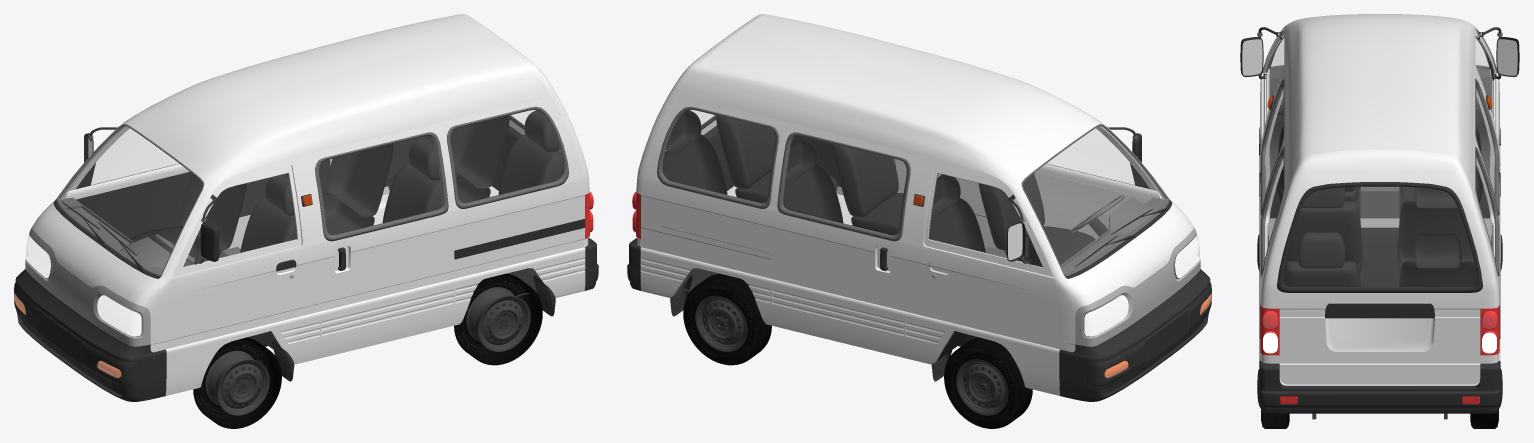
The model's file is chevrolet_damas.glb.
The picture shows the model from 3 angles, left to right: view 1: azimuth 30°, elevation 25°; view 2: azimuth 150°, elevation 25°; view 3: azimuth 270°, elevation 25°; orthographic projection. The views are drawn at different scales.
Visible parts, largest first — view 1: Object_13, Object_12, Object_17, Object_15, Object_19, Object_14, Object_11, Object_22, Object_27, Object_21, Object_25, Object_18 (+2 smaller); view 2: Object_13, Object_12, Object_17, Object_15, Object_19, Object_11, Object_22, Object_21, Object_18, Object_25, Object_23, Object_27 (+2 smaller); view 3: Object_13, Object_12, Object_17, Object_15, Object_19, Object_22, Object_14, Object_18, Object_2, Object_3, Object_23, Object_11 (+2 smaller).
Part boxes in pixels (x1,y1,x2,y2): Object_13: (32, 14, 588, 364); Object_12: (63, 14, 589, 395); Object_17: (26, 110, 562, 335); Object_15: (130, 110, 563, 264); Object_19: (14, 115, 598, 401); Object_14: (76, 125, 562, 238); Object_11: (193, 273, 542, 428); Object_22: (29, 106, 568, 336); Object_27: (205, 197, 530, 415); Object_21: (25, 228, 293, 346); Object_25: (221, 300, 523, 408); Object_18: (60, 197, 240, 273); Object_13: (637, 14, 1193, 364); Object_12: (636, 14, 1162, 395); Object_17: (663, 110, 1199, 335); Object_15: (662, 110, 1095, 264); Object_19: (627, 115, 1211, 401); Object_11: (683, 273, 1032, 428); Object_22: (657, 106, 1196, 336); Object_21: (932, 228, 1200, 346); Object_18: (985, 195, 1165, 273); Object_25: (702, 300, 1004, 408); Object_23: (1084, 237, 1210, 377); Object_27: (695, 197, 1012, 415); Object_13: (1259, 14, 1500, 385); Object_12: (1259, 29, 1500, 384); Object_17: (1264, 38, 1495, 286); Object_15: (1277, 126, 1482, 286); Object_19: (1240, 37, 1519, 413); Object_22: (1257, 32, 1502, 276); Object_14: (1265, 166, 1494, 286); Object_18: (1269, 67, 1490, 217); Object_2: (1242, 39, 1517, 75); Object_3: (1260, 305, 1499, 403); Object_23: (1263, 312, 1496, 353); Object_11: (1261, 409, 1498, 428).
Size of what is drawn, in the model's own units: 8.64 by 4.79 by 4.04.
15 materials, 1 textured.
